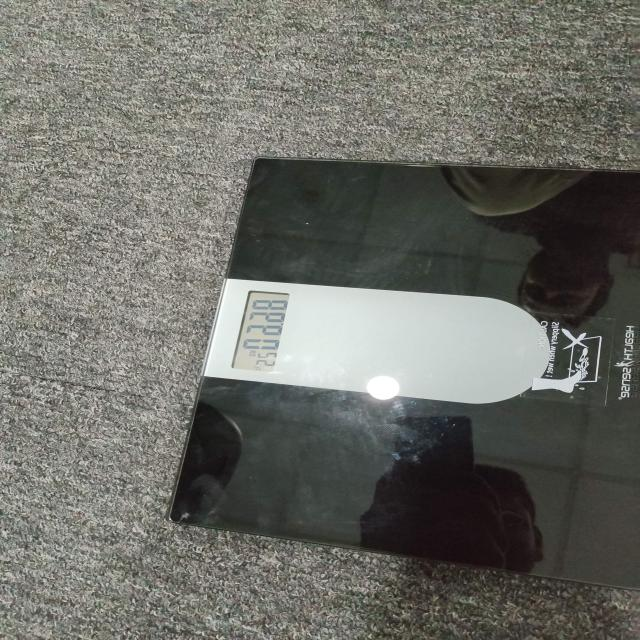ws: (173, 160, 640, 582)
